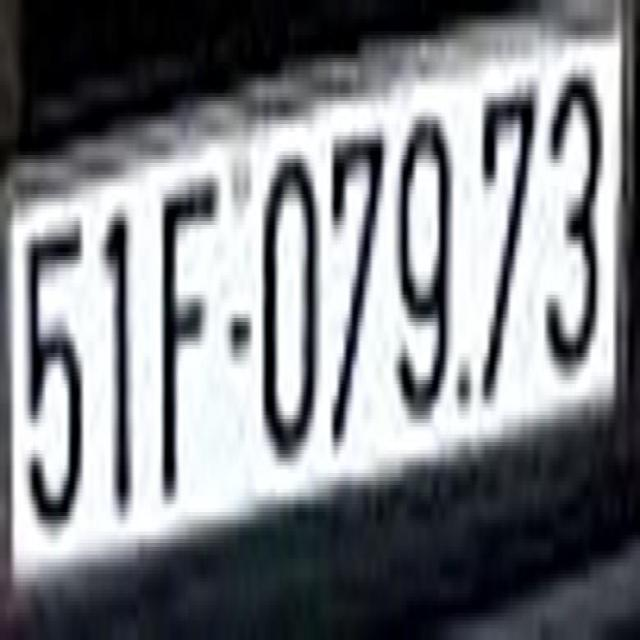0: (259, 140, 319, 473)
1: (102, 194, 131, 558)
3: (546, 73, 599, 396)
5: (25, 217, 87, 535)
7: (478, 78, 531, 392), (329, 132, 383, 438)
9: (396, 104, 447, 430)
F: (159, 175, 218, 512)
